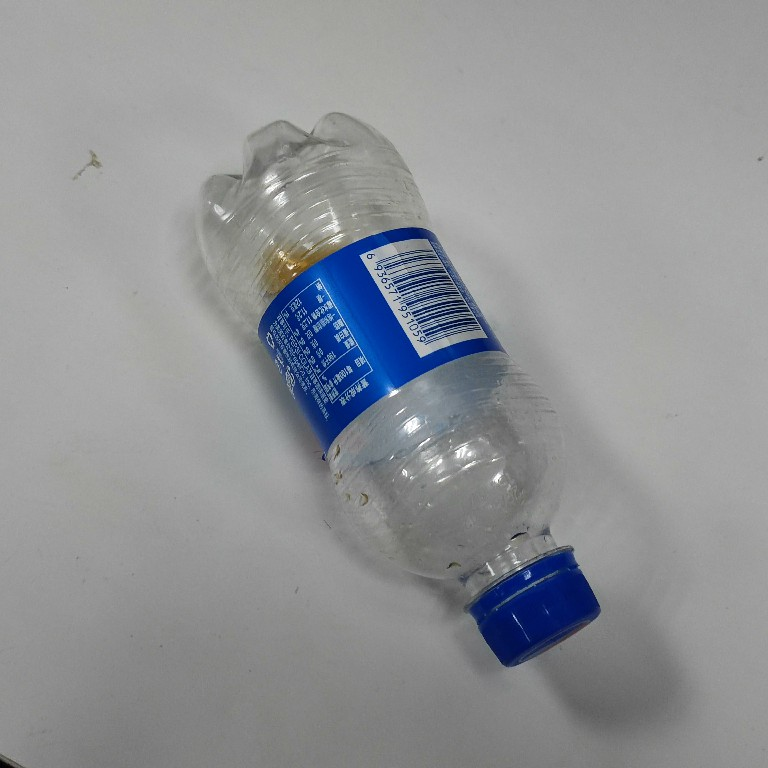bottle: (186, 105, 613, 675)
